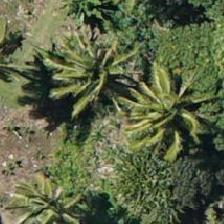coconut_tree: (54, 22, 144, 112), (122, 78, 212, 168), (10, 169, 100, 223)
